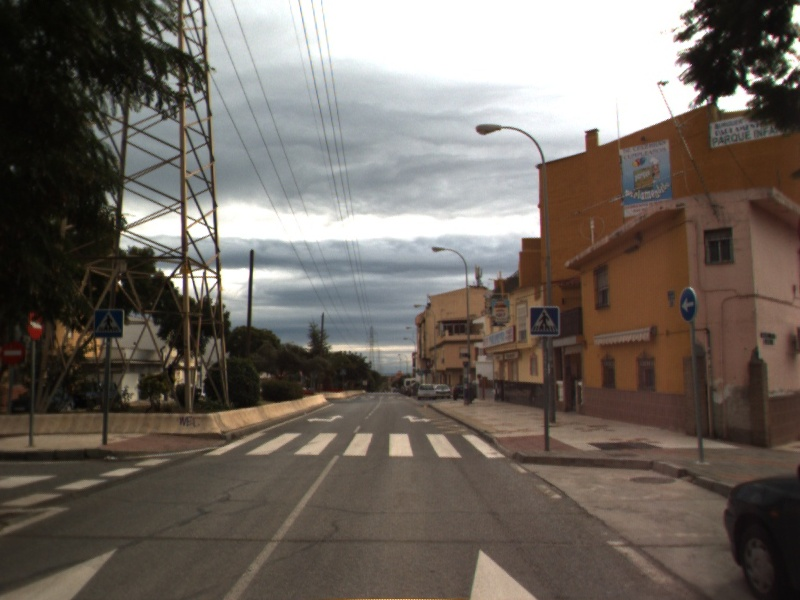STRAIGHT_LEFT: (305, 413, 346, 424)
STRAIGHT_RIGHT: (400, 413, 433, 425)
